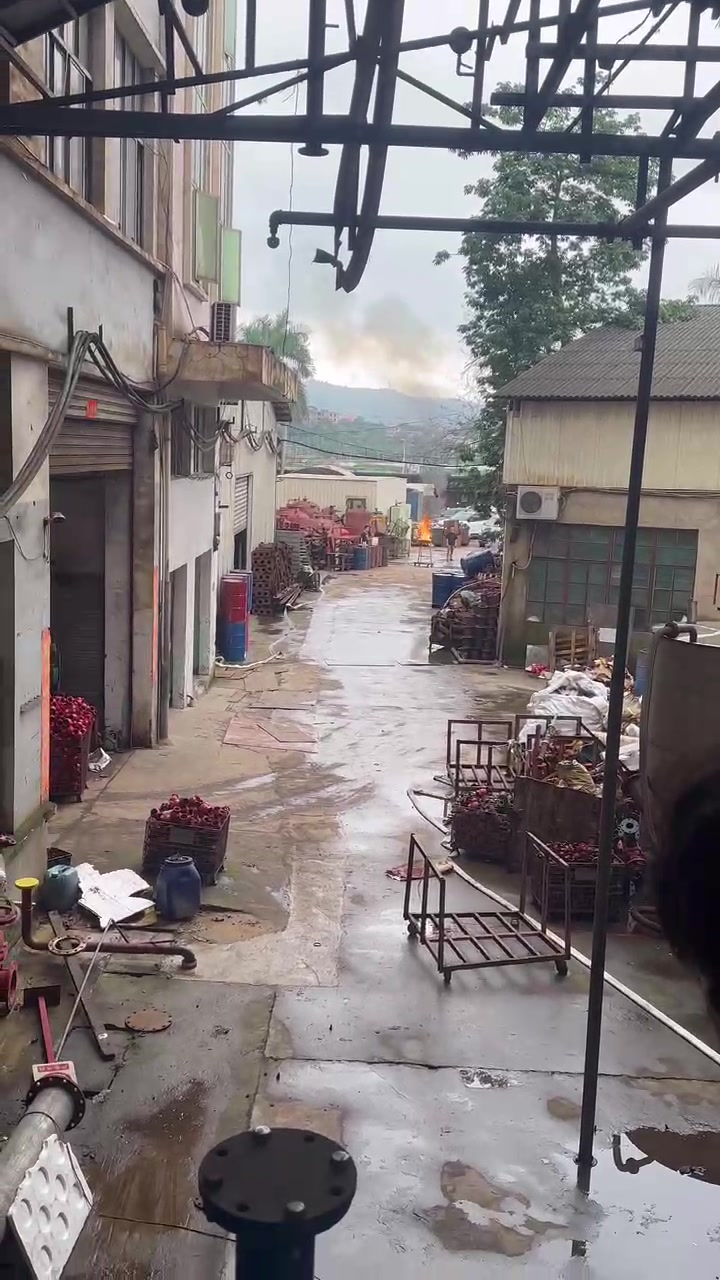fire: (417, 514, 431, 539)
